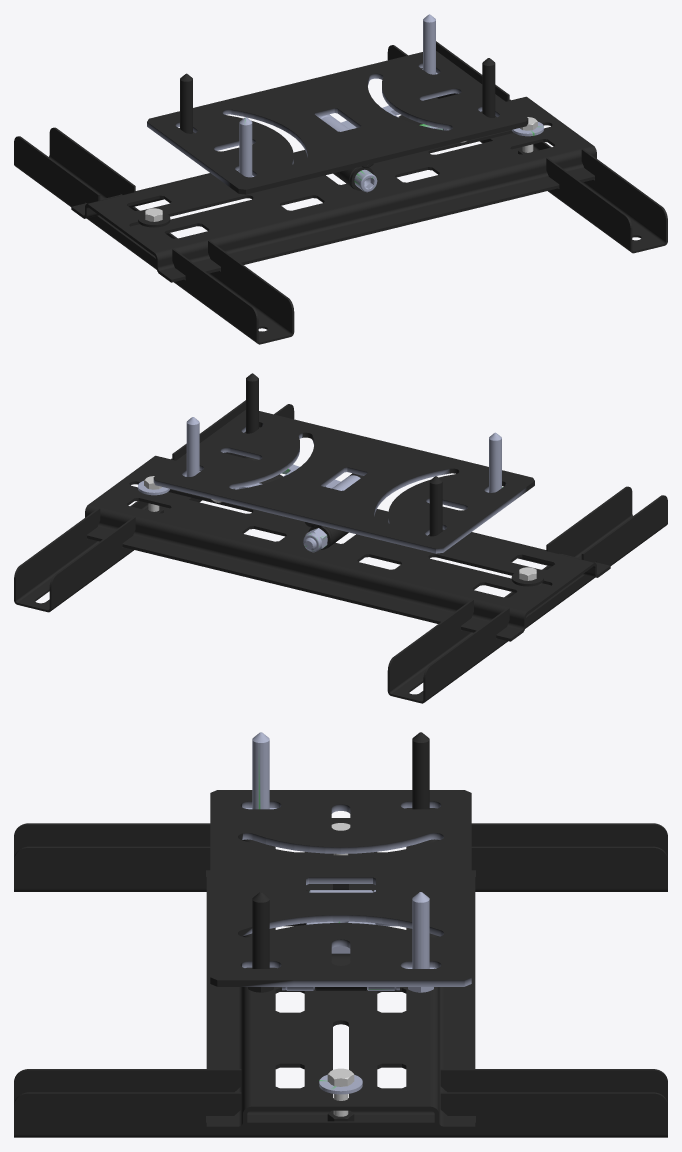
The model's file is uploads_files_91994_Holder_of_TV3.fbx.
The picture shows the model from 3 angles, top to bottom: view 1: azimuth 30°, elevation 25°; view 2: azimuth 150°, elevation 25°; view 3: azimuth 270°, elevation 25°; orthographic projection. The views are drawn at different scales.
Parts seen in each view (by area): view 1: model; view 2: model; view 3: model.
Part boxes in pixels (bbox=[...]): model: bbox=[14, 14, 667, 344]; model: bbox=[14, 373, 667, 703]; model: bbox=[14, 732, 667, 1137].
Size of the model in its own units: 470 by 144 by 450.
